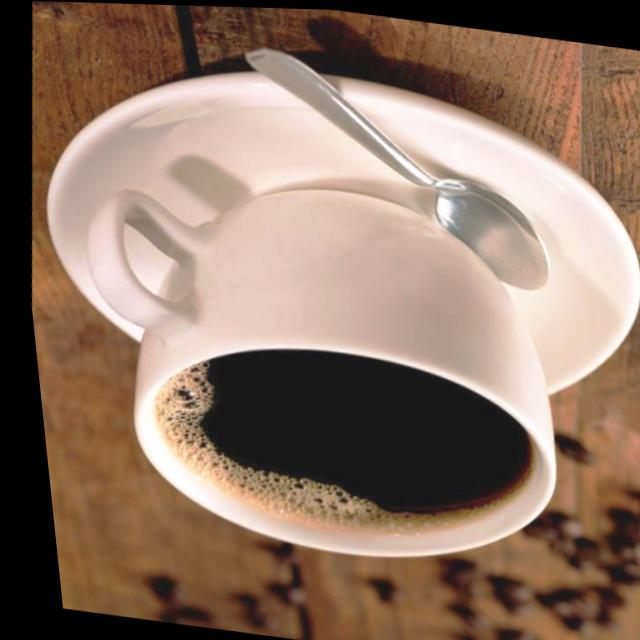drink: (95, 189, 556, 558)
